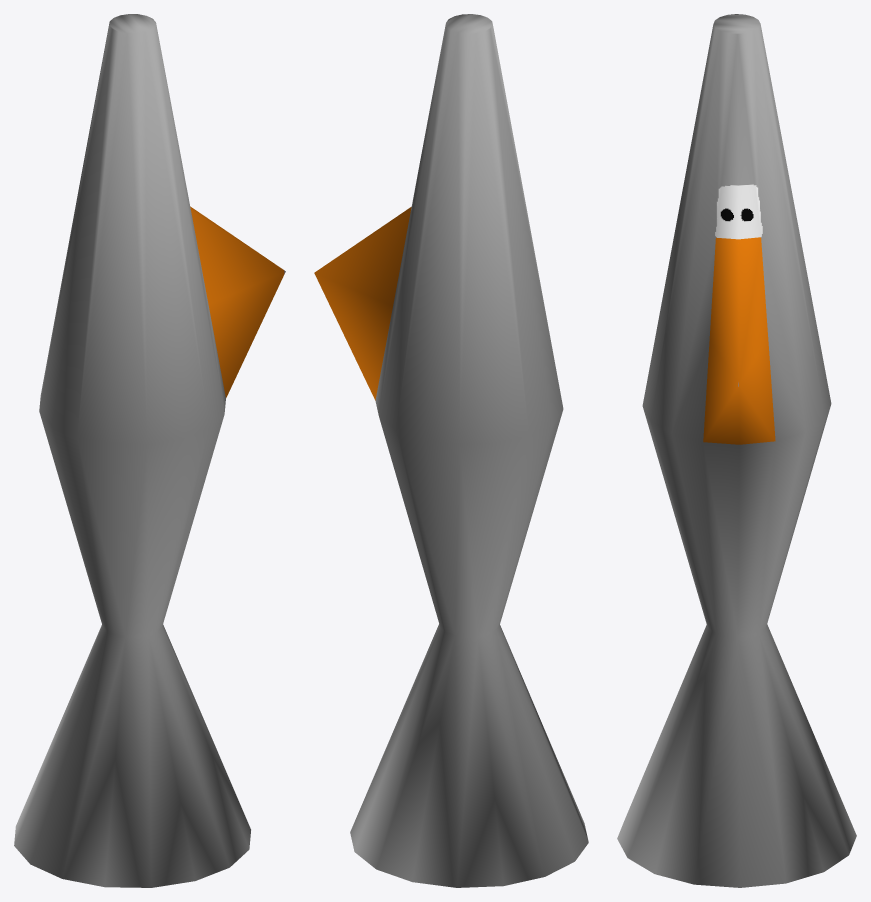
The model's file is birdie.obj.
The picture shows the model from 3 angles, left to right: view 1: azimuth 30°, elevation 25°; view 2: azimuth 150°, elevation 25°; view 3: azimuth 270°, elevation 25°; orthographic projection.
Visible parts, largest first — view 1: Cylinder1; view 2: Cylinder1; view 3: Cylinder1.
Part boxes in pixels (<box>): Cylinder1: <box>14,14,285,887</box>; Cylinder1: <box>314,14,588,887</box>; Cylinder1: <box>617,14,856,887</box>.
Size of the model in its own units: 1.36 by 4.1 by 1.1.
